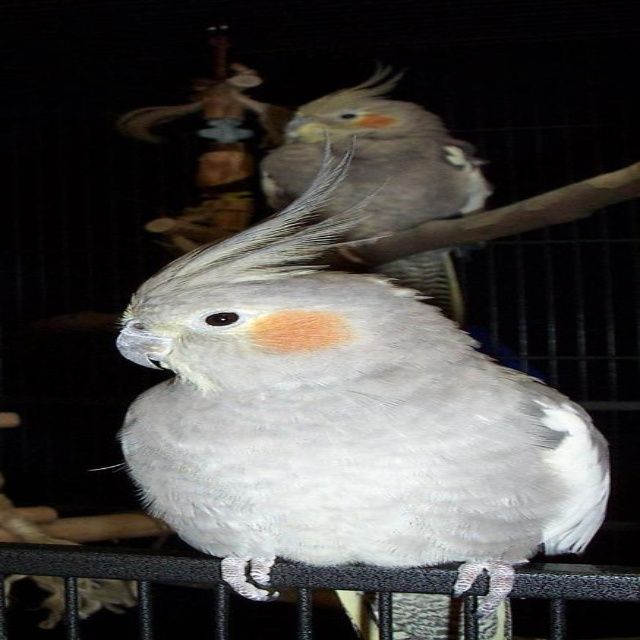Parrot: (111, 129, 614, 603), (263, 69, 503, 330)
